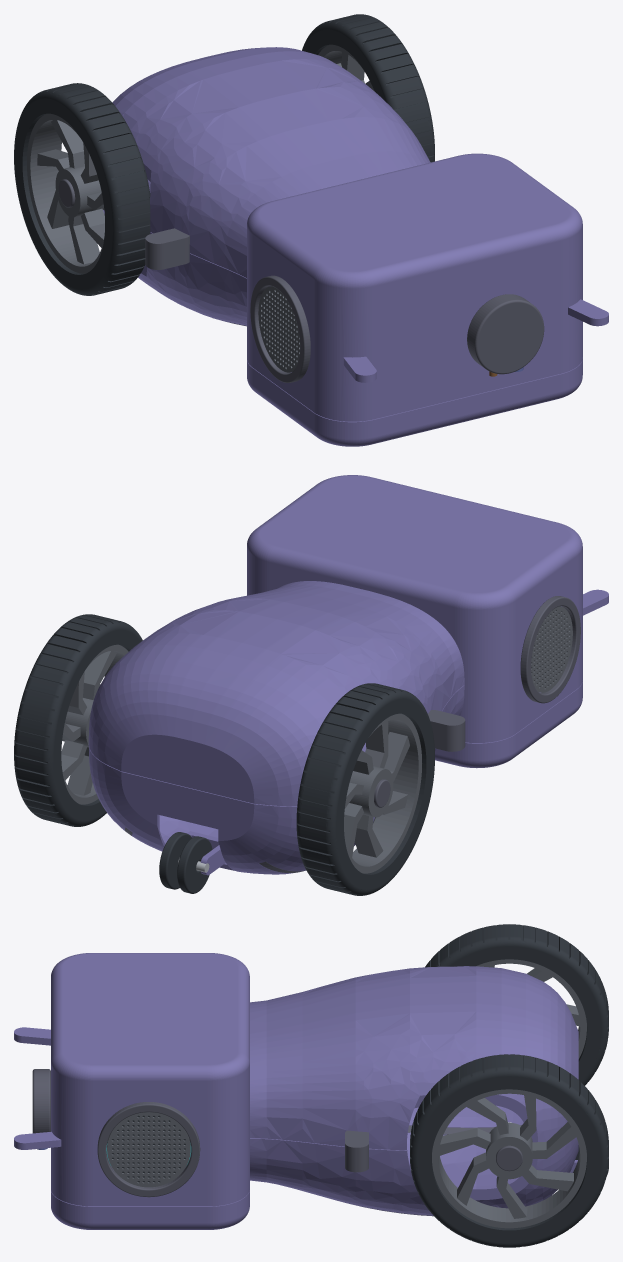
File: AVA-reference-rebuild.gltf
3 views of the same model, one above another, from view 1: azimuth 30°, elevation 25°; view 2: azimuth 150°, elevation 25°; view 3: azimuth 270°, elevation 25° (orthographic). The views are drawn at different scales.
Visible parts, largest first — view 1: Renderer Node; view 2: Renderer Node; view 3: Renderer Node.
Boxes of the visible parts, left/top/right/bottom form: Renderer Node: left=14, top=14, right=608, bottom=446; Renderer Node: left=14, top=475, right=608, bottom=895; Renderer Node: left=14, top=924, right=608, bottom=1247.
Bounding box in the file's own units: 232 × 145 × 394.
